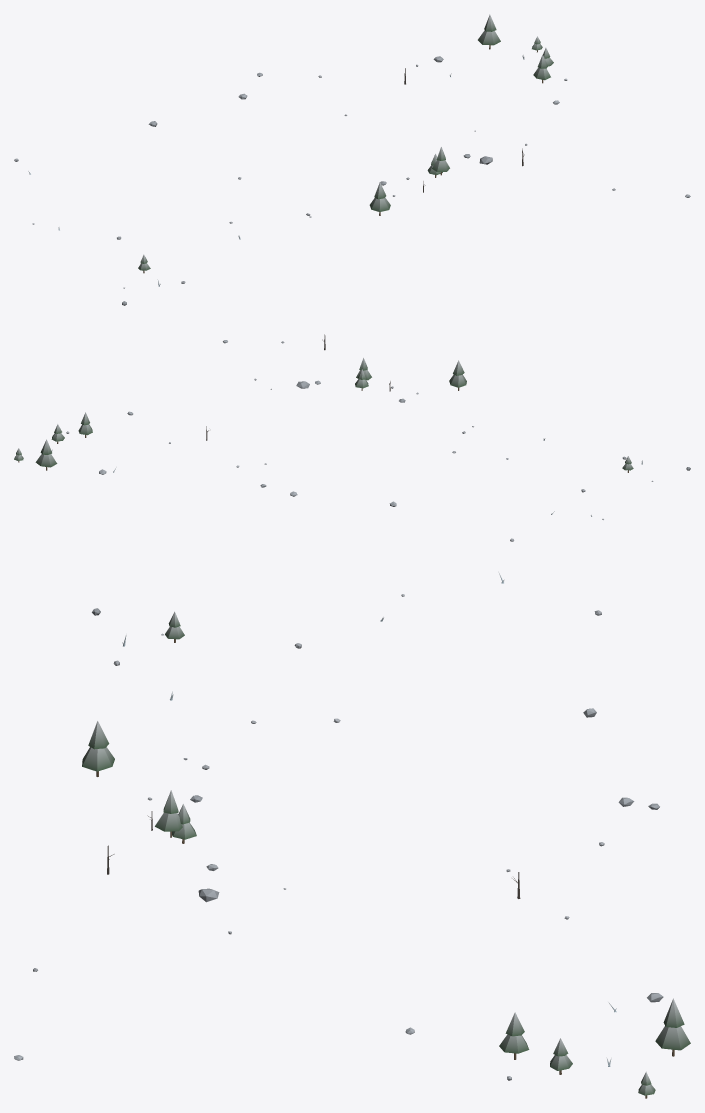
The model's file is frost_land_scatter_c21_10_lod1.glb.
The picture shows the model from 3 angles, top to bottom: view 1: azimuth 30°, elevation 25°; view 2: azimuth 150°, elevation 25°; view 3: azimuth 270°, elevation 25°; orthographic projection. The views are drawn at different scales.
Visible parts, largest first — view 1: frost_land_scatter_c21_10_lod1; view 2: frost_land_scatter_c21_10_lod1; view 3: frost_land_scatter_c21_10_lod1.
Part boxes in pixels (<box>): frost_land_scatter_c21_10_lod1: <box>14,14,690,305</box>; frost_land_scatter_c21_10_lod1: <box>14,334,690,541</box>; frost_land_scatter_c21_10_lod1: <box>14,572,690,1098</box>.
Size of the model in its own units: 257 by 29.79 by 156.
